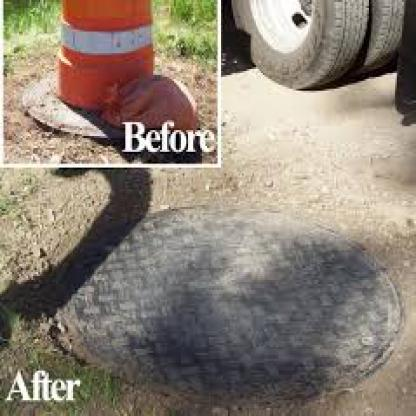manholes: (42, 177, 409, 412)
